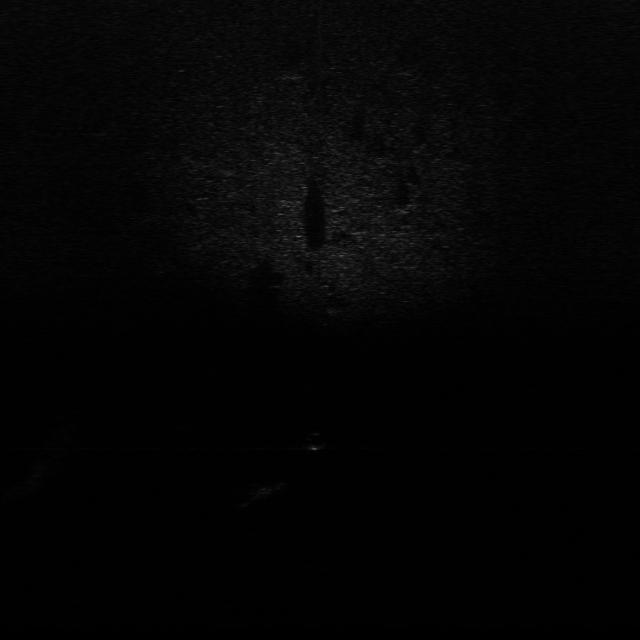ball: (298, 427, 328, 455)
square cage: (247, 478, 289, 501)
